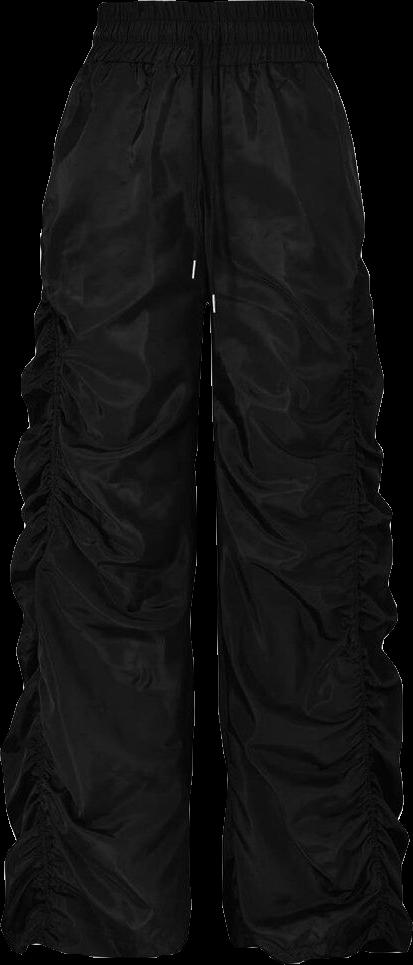Hemline: (7, 931, 188, 960), (231, 936, 411, 964)
Neckline: (202, 0, 410, 961), (2, 2, 207, 957)
Waistline: (85, 55, 324, 72), (98, 0, 311, 14)
